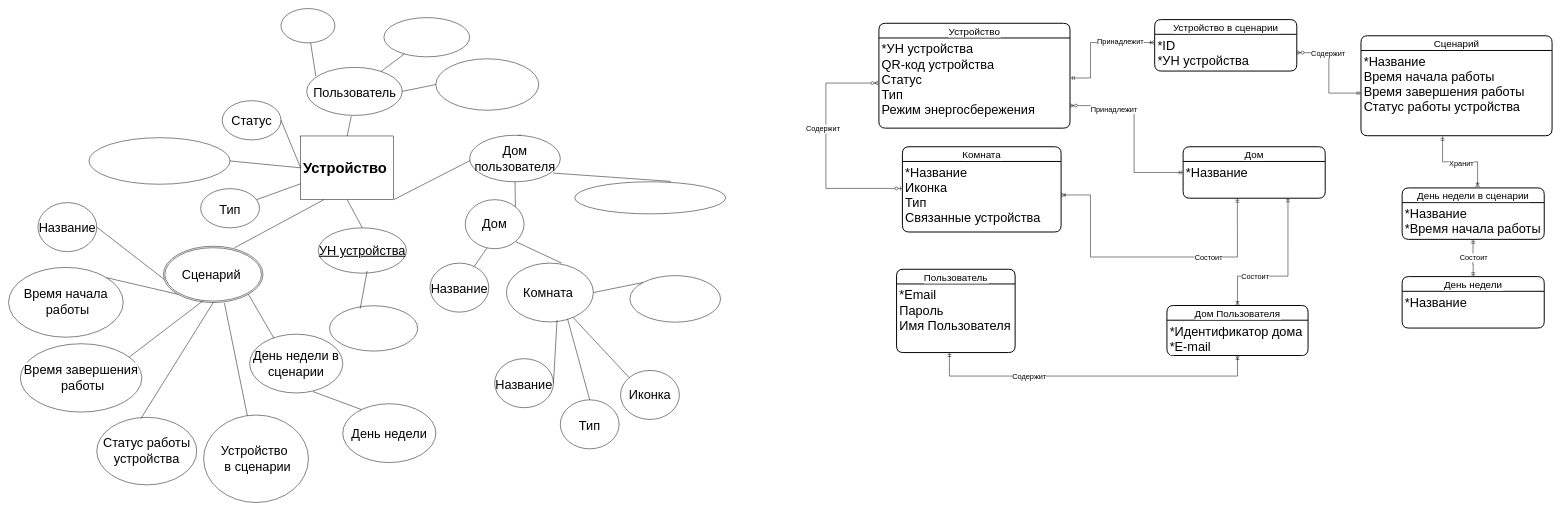
Some shapes in this 1561 by 511 pixel diagram are drawn without their labels. The centre of each missing label's shape, as x and y in pixels:
QR-код устройства: (373,328)
Е-mail: (426,37)
Идентификатор дома: (650,197)
Имя пользователя: (487,84)
Пароль: (308,25)
Режим энергосбережения: (159,160)
Связанные устройства: (675,298)
